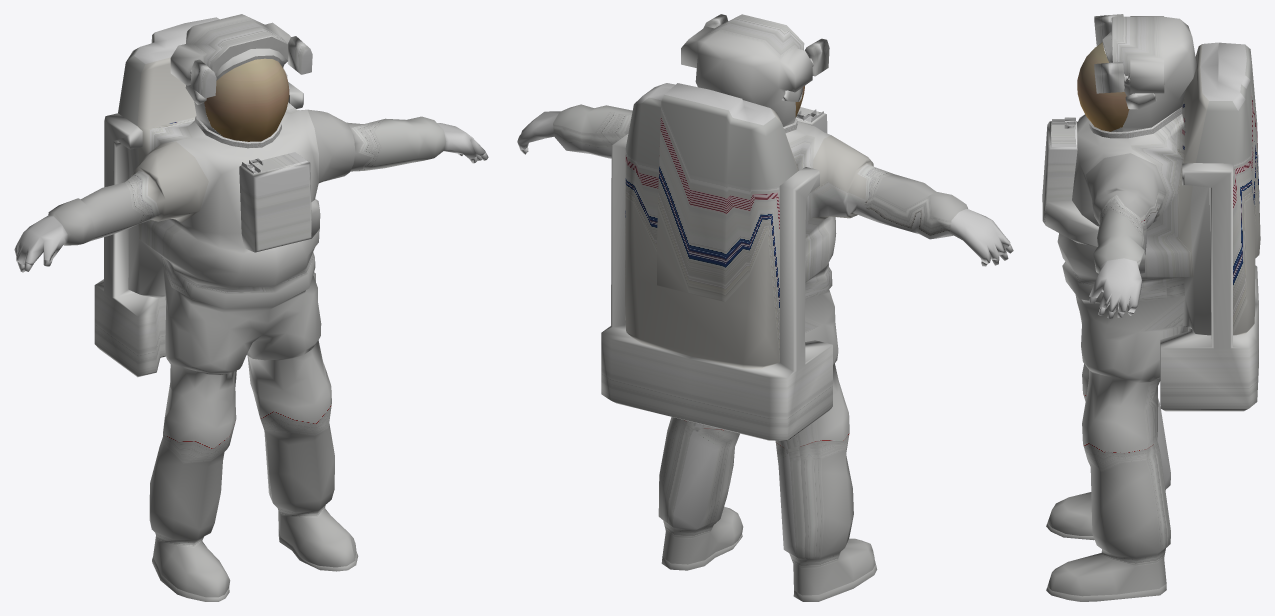
Rendered from astronaut.glb.
3 views of the same model, side by side, from view 1: azimuth 30°, elevation 25°; view 2: azimuth 150°, elevation 25°; view 3: azimuth 270°, elevation 25° (orthographic). The views are drawn at different scales.
Visible parts, largest first — view 1: astronaut1; view 2: astronaut1; view 3: astronaut1.
Part boxes in pixels (<box>): astronaut1: <box>14,14,488,601</box>; astronaut1: <box>517,14,1013,601</box>; astronaut1: <box>1042,14,1260,601</box>.
Size of the model in its own units: 68.91 by 74.26 by 27.55.
Materials: 2 (2 with a texture image).
